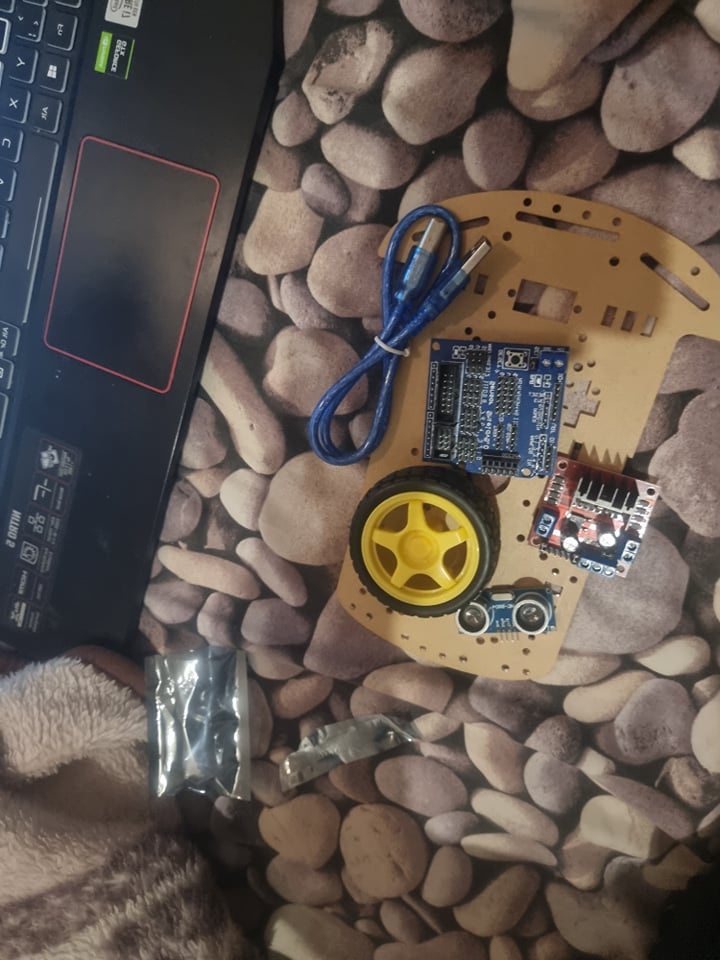5V EXPANSION: (422, 331, 570, 481)
MOTOR: (528, 454, 664, 584)
SENSOR: (452, 585, 561, 640)
